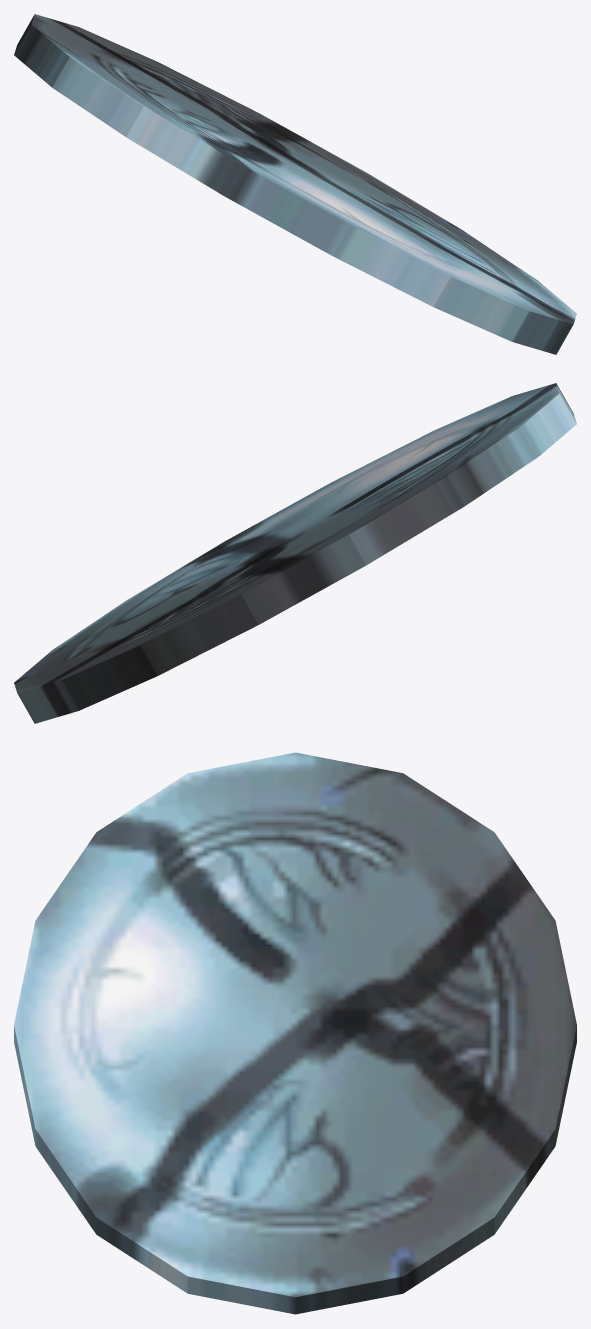
File: bbrd_tx_tiaozhanxunzhang_3_01.obj
3 views of the same model, one above another, from view 1: azimuth 30°, elevation 25°; view 2: azimuth 150°, elevation 25°; view 3: azimuth 270°, elevation 25° (orthographic). The views are drawn at different scales.
Parts seen in each view (by area): view 1: Cylinder01; view 2: Cylinder01; view 3: Cylinder01.
Part boxes in pixels (<box>): Cylinder01: <box>14,14,576,354</box>; Cylinder01: <box>14,383,576,723</box>; Cylinder01: <box>14,752,576,1314</box>.
Bounding box in the file's own units: 15.3 × 10.97 × 15.97.
Materials: 1 (1 with a texture image).
